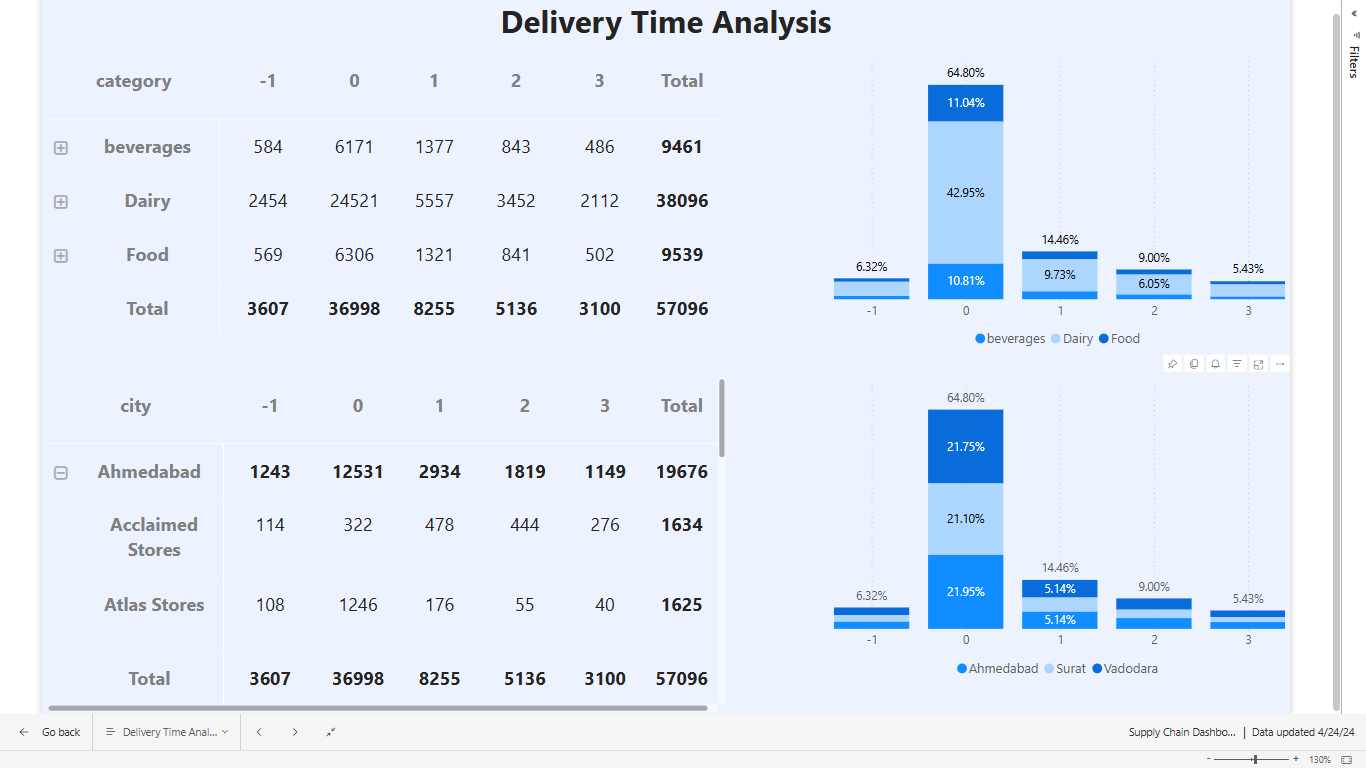

The page's visual inventory and layout, read from the dashboard file:
{"tool":"powerbi","page":{"name":"Delivery Time Analysis","canvas":[1280,742],"ordinal":5},"visuals":[{"type":"pivotTable","fields":{"Values":["fact_order_lines.Total Order Lines"],"Columns":["fact_order_lines.delivery difference in days"],"Rows":["dim_products.category Hierarchy.category","dim_products.category Hierarchy.product_name"]},"box":[0,55,706.7,335],"z":0},{"type":"pivotTable","fields":{"Values":["fact_order_lines.Total Order Lines"],"Rows":["dim_customers.city Hierarchy.city","dim_customers.city Hierarchy.customer_name"],"Columns":["fact_order_lines.delivery difference in days"]},"box":[0,388.3,706.7,353.3],"z":1000},{"type":"columnChart","fields":{"Category":["fact_order_lines.delivery difference in days"],"Series":["dim_products.category"],"Y":["fact_order_lines.Orderline Distribution"]},"box":[806.7,55,473.3,316.7],"z":2000},{"type":"columnChart","fields":{"Category":["fact_order_lines.delivery difference in days"],"Series":["dim_customers.city"],"Y":["fact_order_lines.Orderline Distribution"]},"box":[806.7,388.3,473.3,321.7],"z":3000},{"type":"textbox","box":[0,0,1280,55],"z":4000}]}

Visuals, with their boxes on the page's 1280x742 design canvas (x1, y1, x2, y2). These are canvas units, not pixel positions in the 1366x768 screenshot, which may show the page scaled, cropped or inside an application window:
pivotTable - fact_order_lines.Total Order Lines x fact_order_lines.delivery difference in days: [left=0, top=55, right=707, bottom=390]
pivotTable - fact_order_lines.Total Order Lines x dim_customers.city Hierarchy.city: [left=0, top=388, right=707, bottom=742]
columnChart - fact_order_lines.delivery difference in days x dim_products.category: [left=807, top=55, right=1280, bottom=372]
columnChart - fact_order_lines.delivery difference in days x dim_customers.city: [left=807, top=388, right=1280, bottom=710]
textbox: [left=0, top=0, right=1280, bottom=55]
